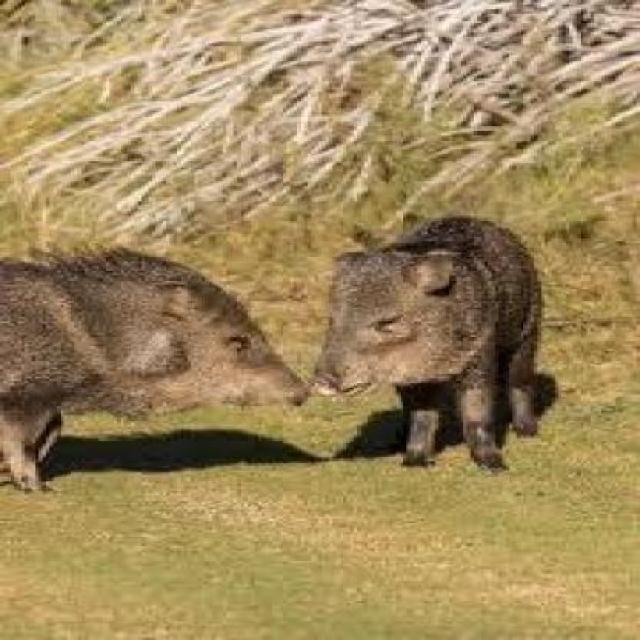wildboar: (1, 244, 301, 490), (306, 207, 557, 471)
